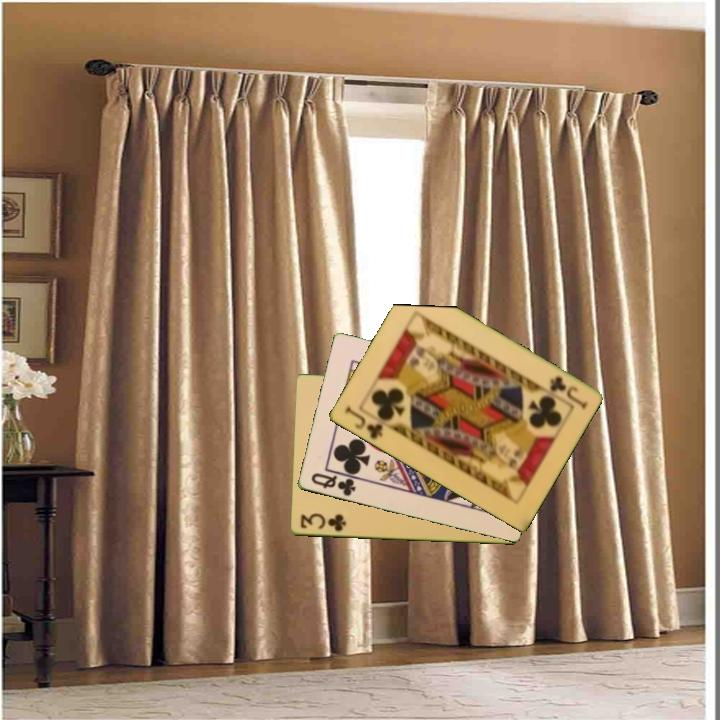3c: (297, 510, 348, 535)
Jc: (341, 403, 386, 442), (546, 373, 591, 411)
Qc: (307, 469, 358, 499)
